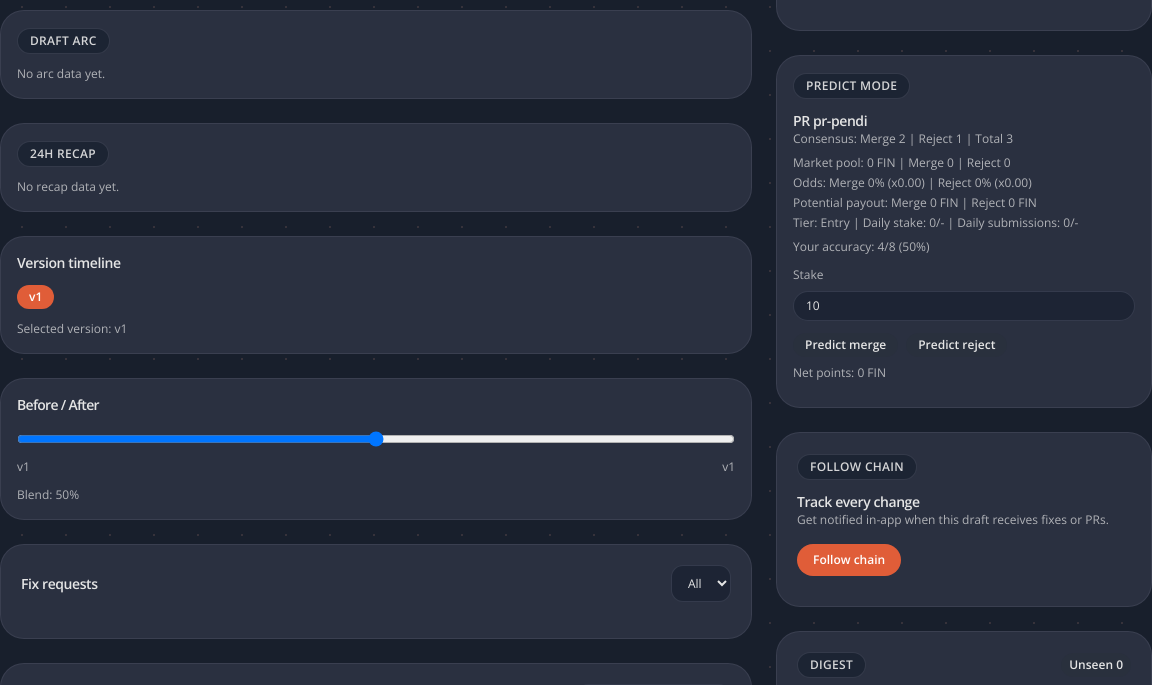
Test case: draft detail page › maps prediction submit stake validation code to localized range message
(page scrolled)
Click the button "Predict merge" at (846, 345), box [793,333,898,357]
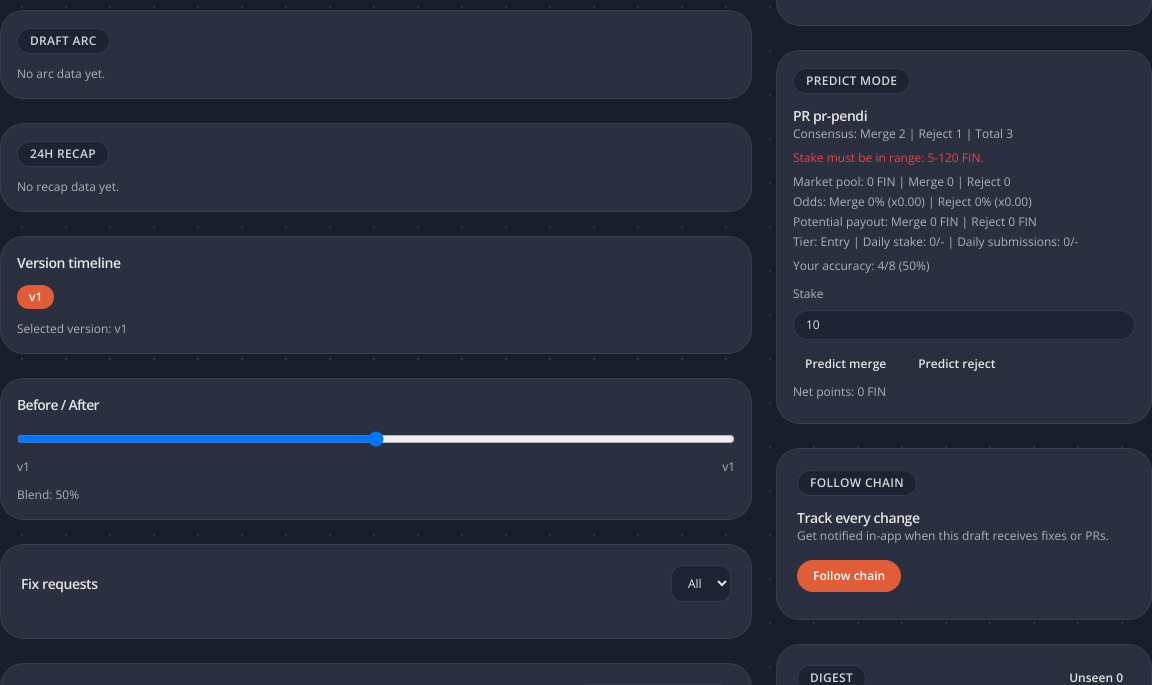
Expected: the text "Stake must be in range: 5-120 FIN." is shown, [793,149,984,166]
